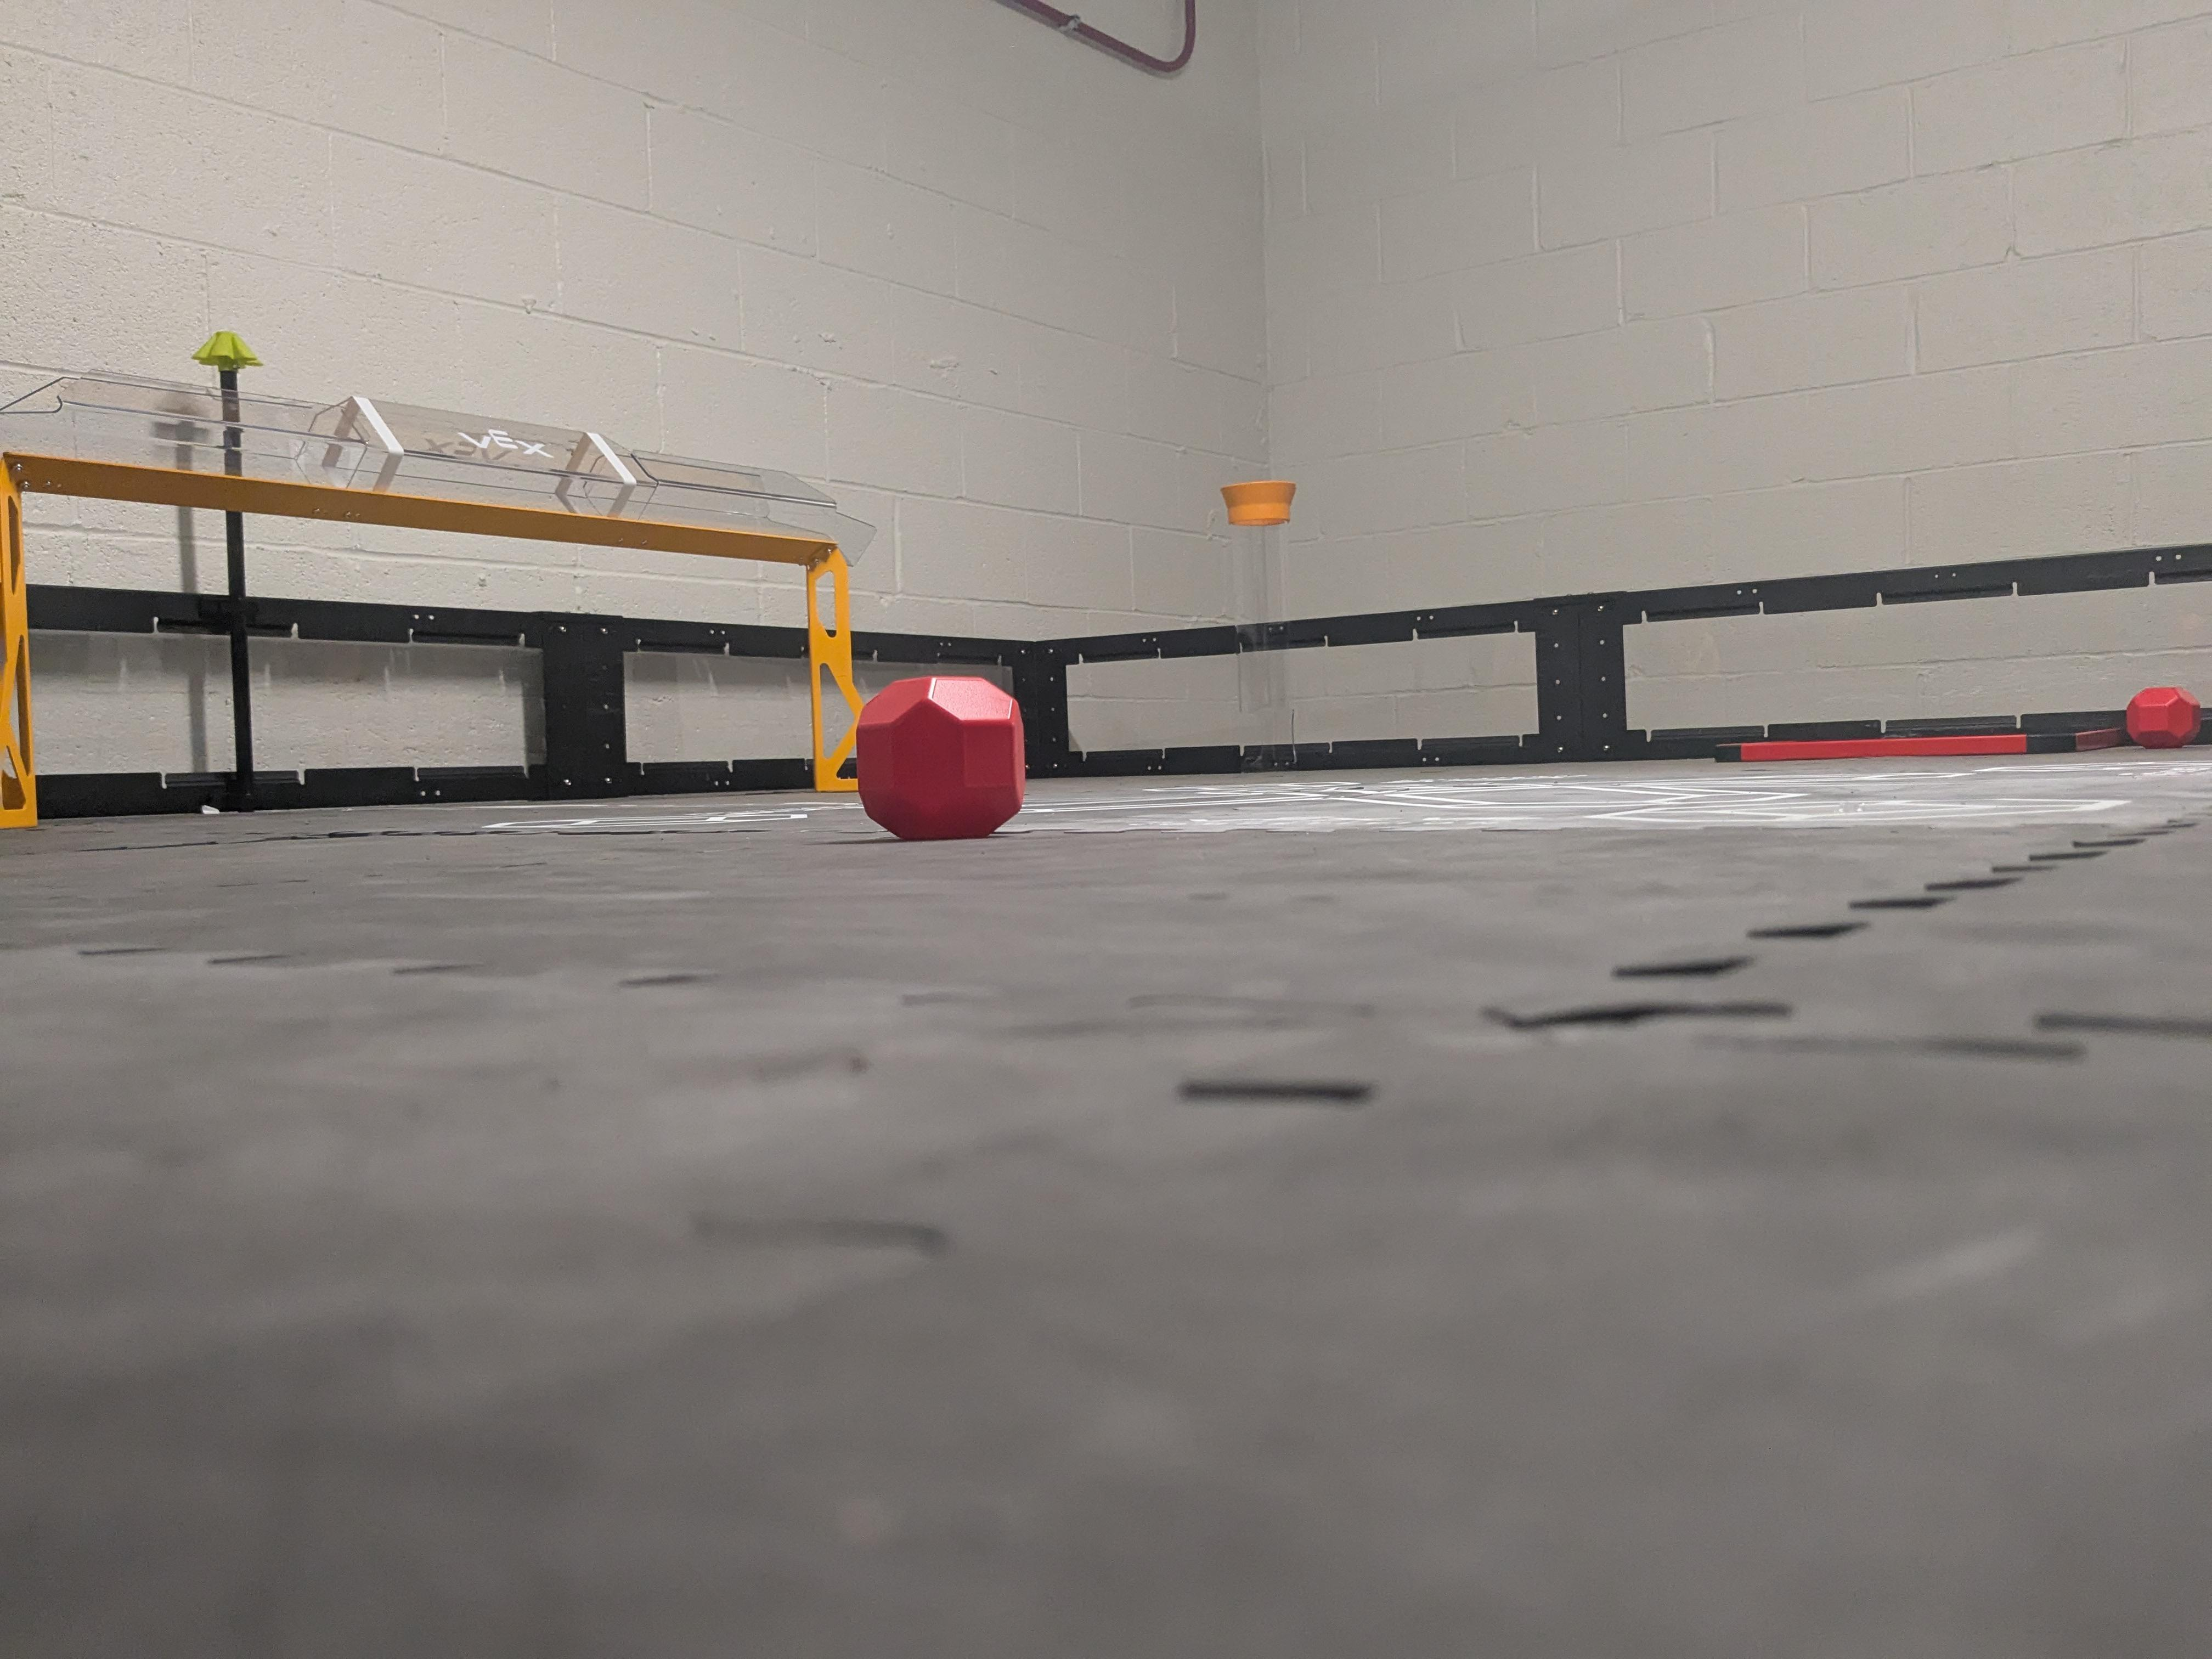Vex-Pieces-RED: (860, 678, 1022, 836), (2125, 687, 2200, 748)
